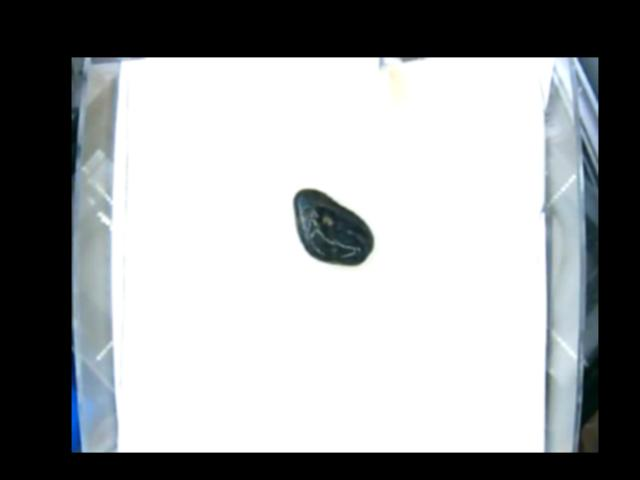Pebble: (293, 187, 375, 267)
